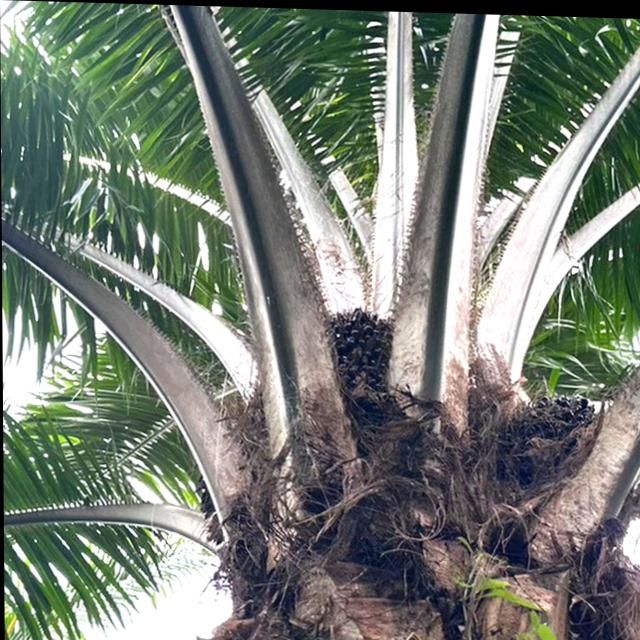unripe: (492, 385, 607, 500), (314, 299, 406, 407)
